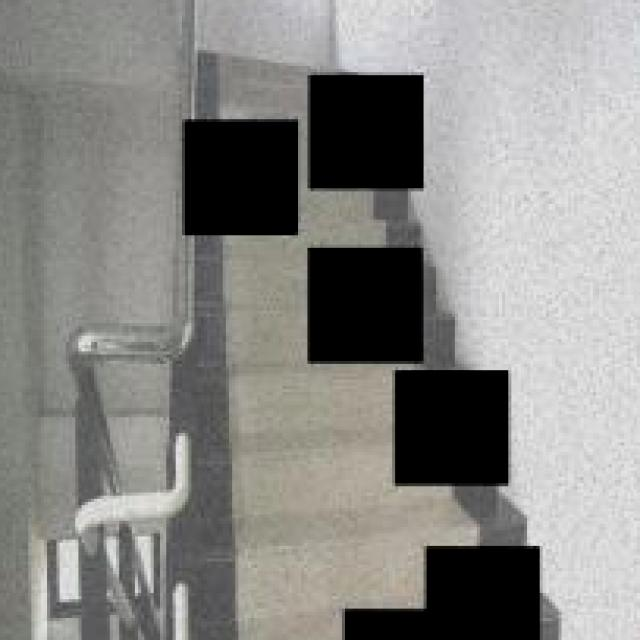upstair: (202, 365, 387, 600)
